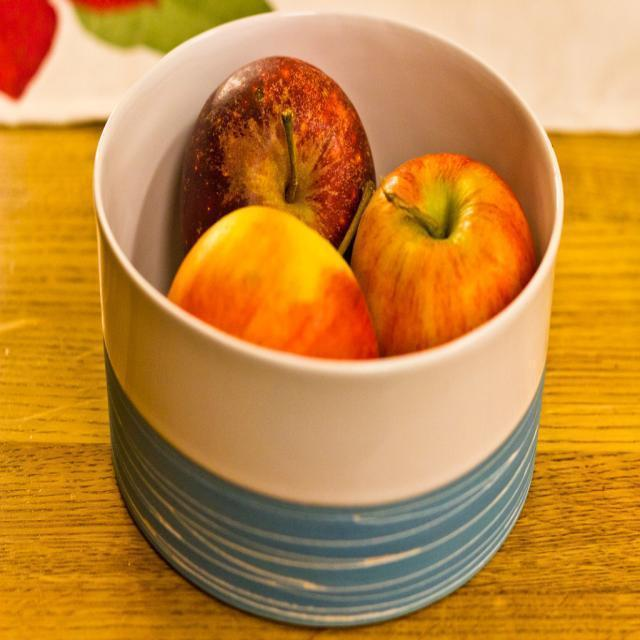Apple: (178, 54, 376, 258), (350, 151, 537, 356), (170, 205, 374, 378)
